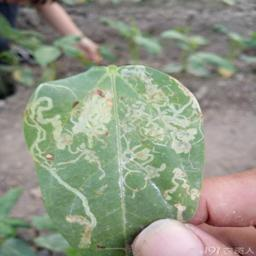liriomyza: (23, 65, 203, 249)
